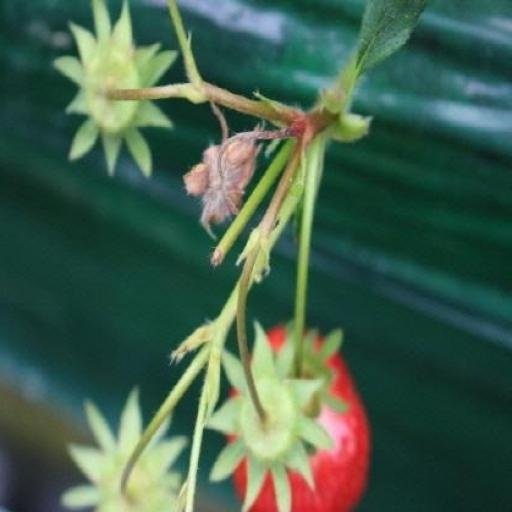Gray Mold: (222, 102, 330, 242)
